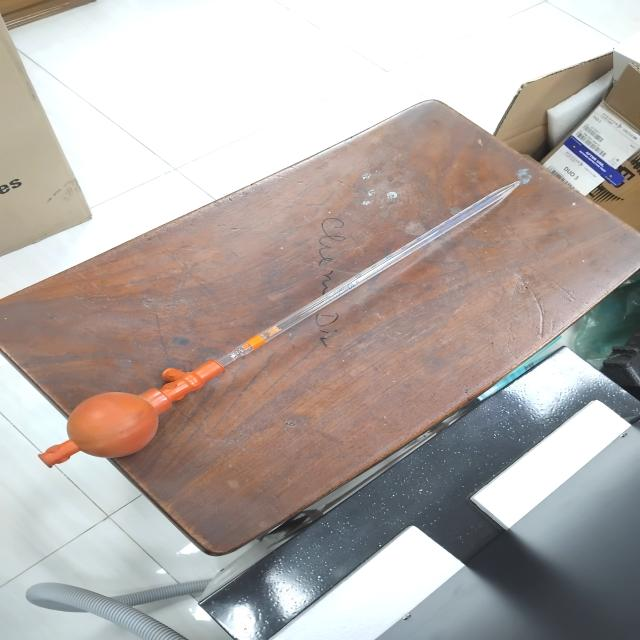Volumetric_Pipet: (13, 141, 577, 505)
